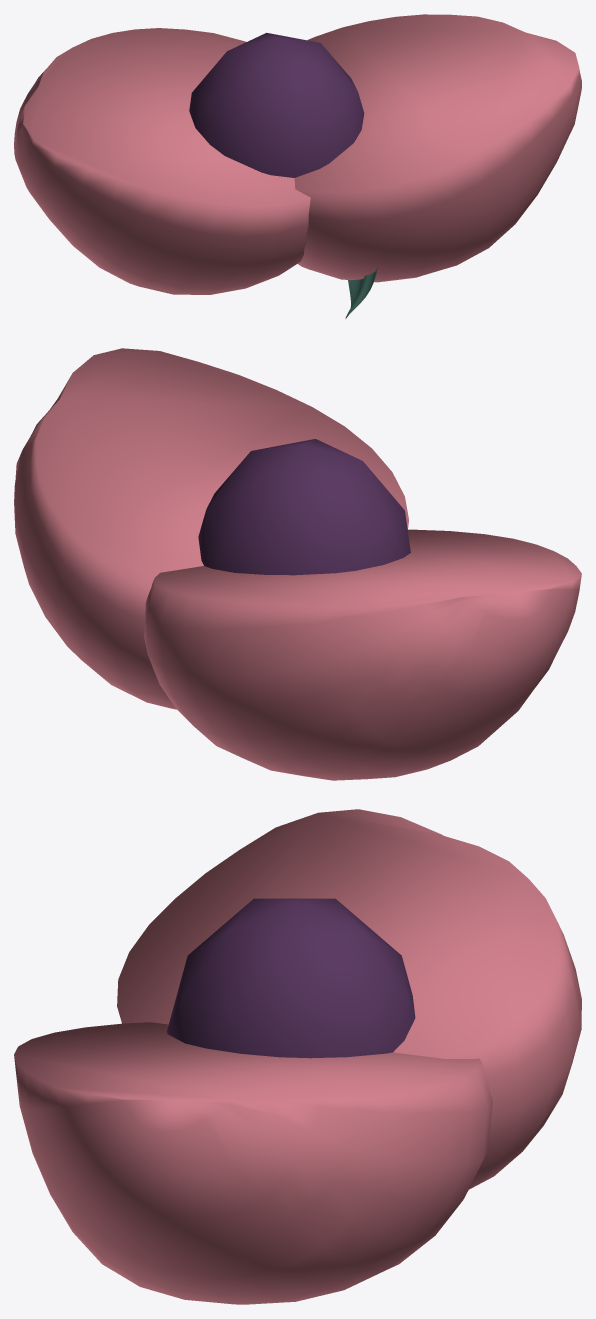
The model's file is SplitPeach.glb.
The picture shows the model from 3 angles, top to bottom: view 1: azimuth 30°, elevation 25°; view 2: azimuth 150°, elevation 25°; view 3: azimuth 270°, elevation 25°; orthographic projection. The views are drawn at different scales.
Parts seen in each view (by area): view 1: Peach; view 2: Peach; view 3: Peach.
Boxes of the visible parts, bbox=[...] form: Peach: bbox=[14, 14, 581, 318]; Peach: bbox=[14, 348, 581, 780]; Peach: bbox=[14, 809, 581, 1304].
Size of the model in its own units: 3.21 by 1.52 by 2.36.
